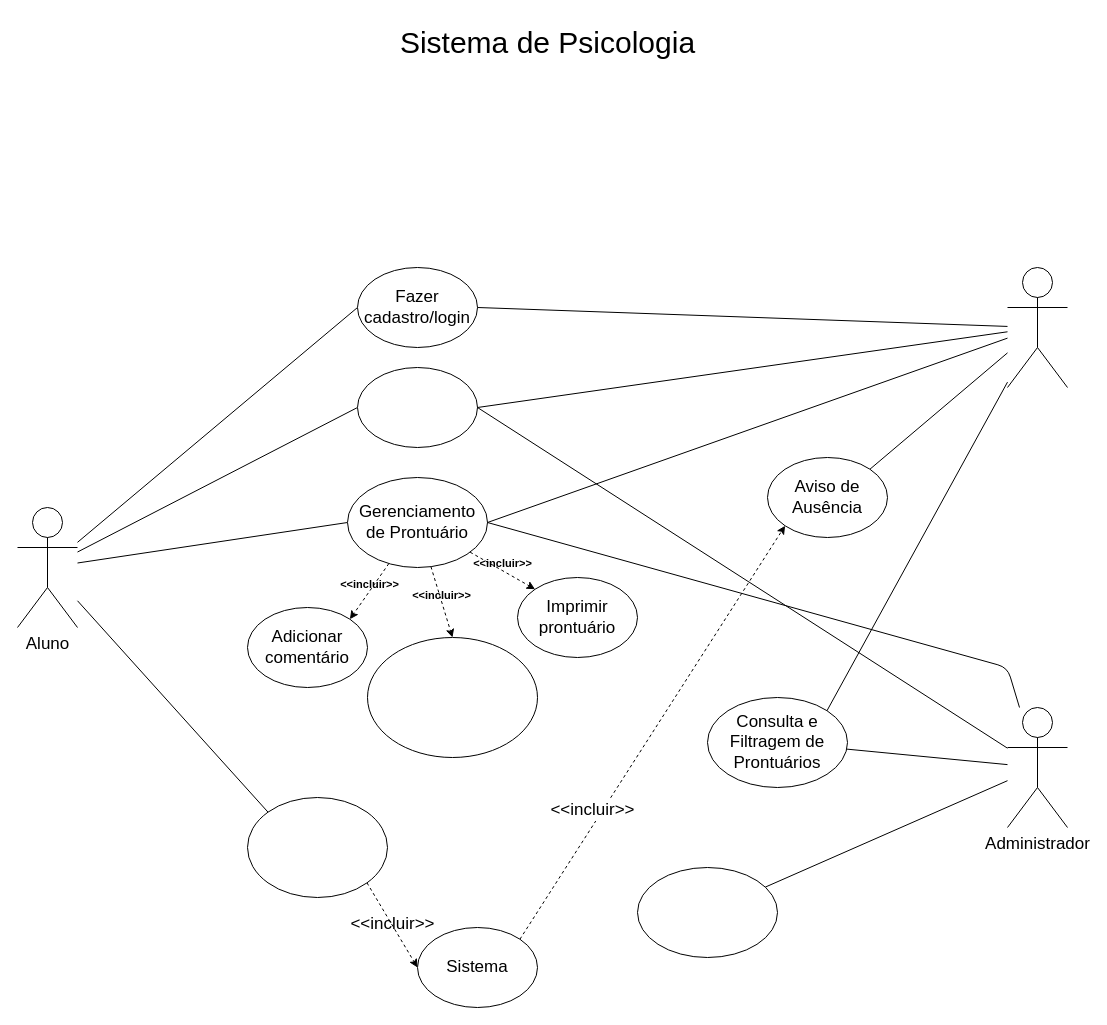
Image size: 1107x1025. Some labels were removed from this diagram. The centre of each missing label's shape, as x and y in pixels:
"Adicionar, Digitalizar ou Atualizar prontuário" belongs at point (452, 697).
"Cadastro de Paciente" belongs at point (417, 407).
"Envio de Relatório" belongs at point (317, 847).
"Gerenciamento do Sistema" belongs at point (707, 912).
"Professor" belongs at point (1037, 327).
